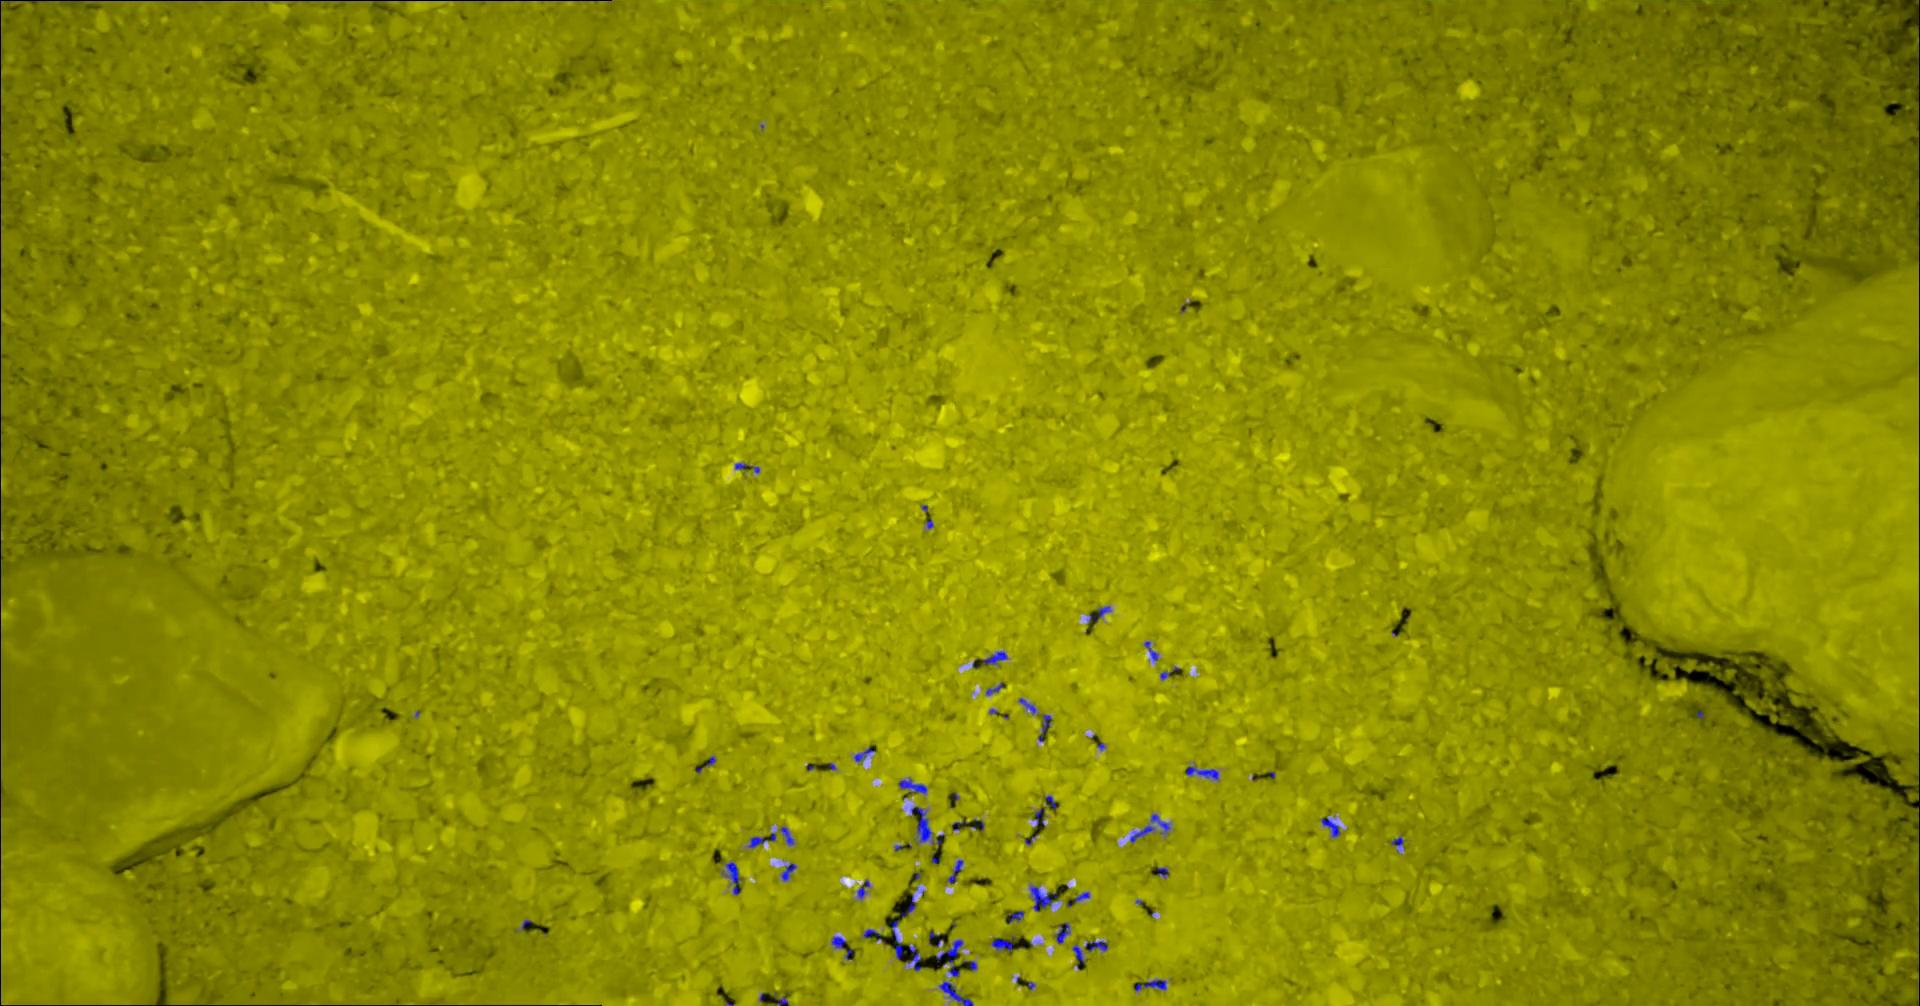ant: (1129, 813, 1170, 842), (935, 939, 963, 976), (938, 981, 971, 1005), (910, 807, 932, 842), (1029, 885, 1057, 911), (723, 861, 740, 894), (1185, 765, 1218, 779), (890, 920, 902, 959), (747, 832, 775, 847), (946, 859, 963, 883), (898, 779, 926, 793), (907, 945, 922, 970), (1037, 714, 1051, 741), (1134, 979, 1166, 991), (1321, 815, 1338, 836), (1088, 605, 1110, 621), (900, 893, 916, 916), (853, 746, 875, 761), (982, 652, 1007, 664), (780, 862, 796, 880), (778, 826, 794, 845), (990, 937, 1013, 950), (1055, 922, 1069, 942), (1070, 944, 1084, 963), (1084, 940, 1107, 951), (856, 879, 869, 898), (1032, 807, 1044, 827), (1007, 909, 1023, 922), (830, 936, 844, 948)
